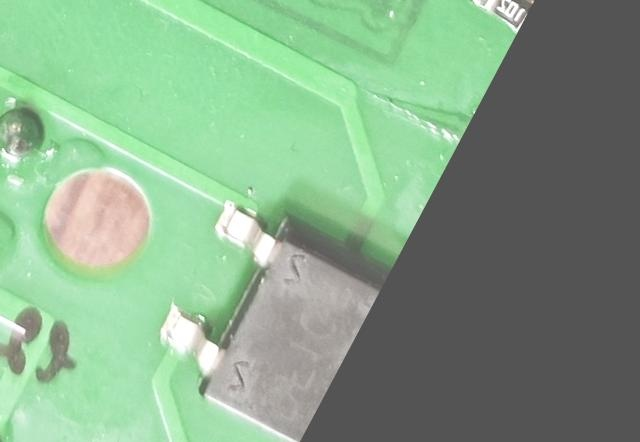chip-resistor: (467, 0, 537, 32)
ic: (136, 182, 393, 442)
